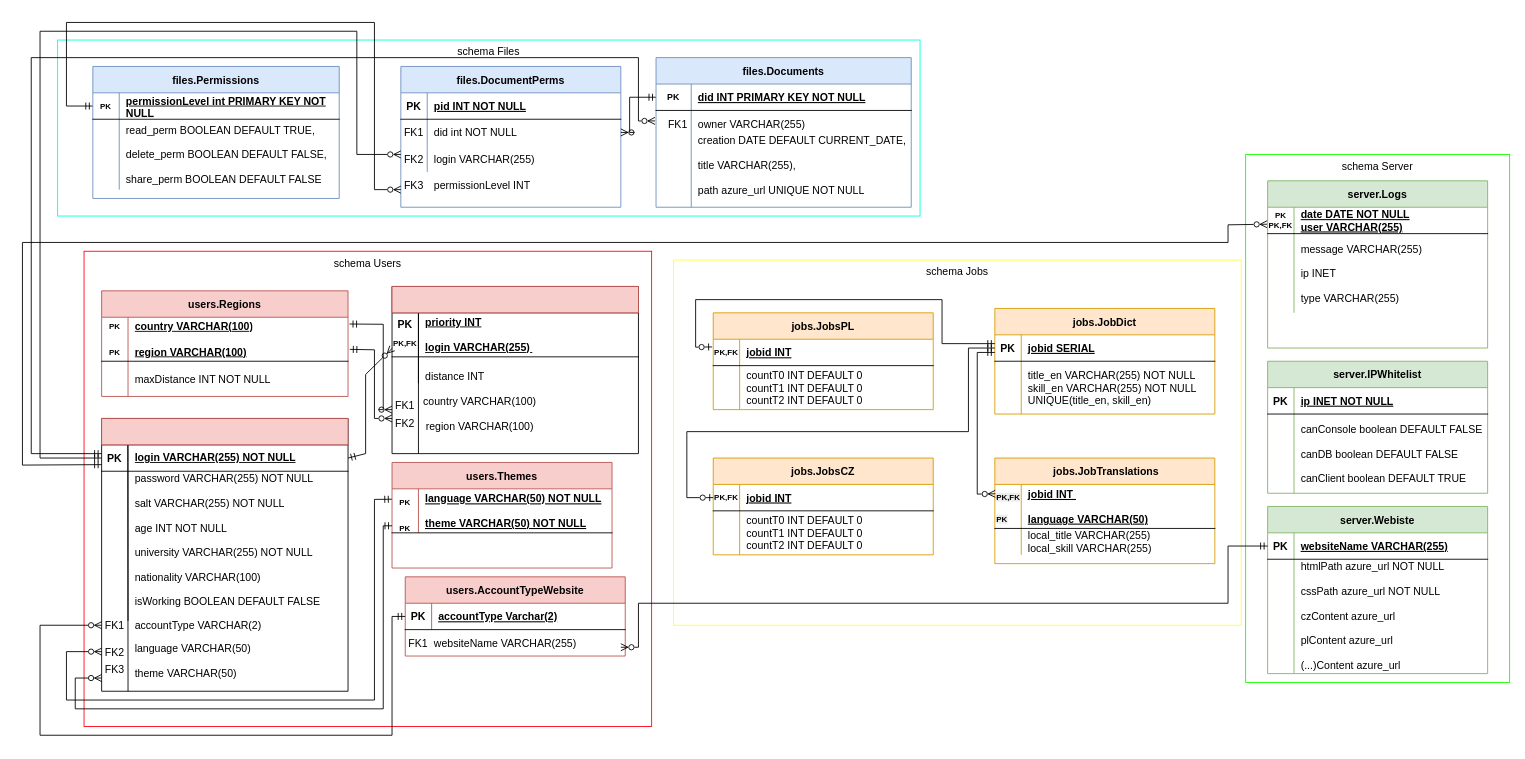
Image size: 1525x759. Some labels were removed from this diagram. Each missing label, with the centre of its shape:
users.User: (x=224, y=431)
users.UserSearchSettings: (x=514, y=299)
